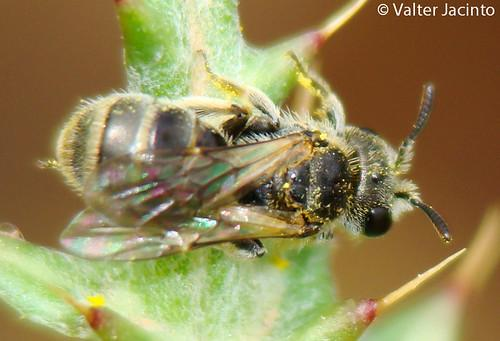Seladonia: (40, 41, 459, 281)
